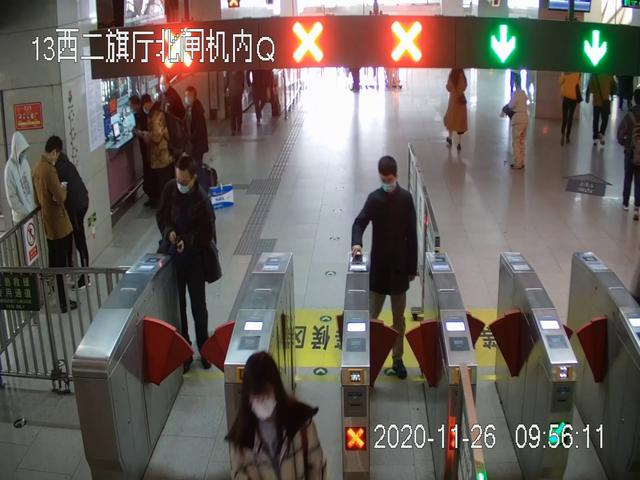person: (351, 155, 418, 379), (155, 155, 223, 371), (226, 350, 327, 480), (35, 136, 82, 313), (3, 130, 35, 285), (139, 92, 180, 202), (500, 78, 530, 172), (182, 85, 209, 183), (585, 72, 615, 148), (444, 66, 469, 154), (559, 69, 580, 145), (223, 68, 246, 137)
